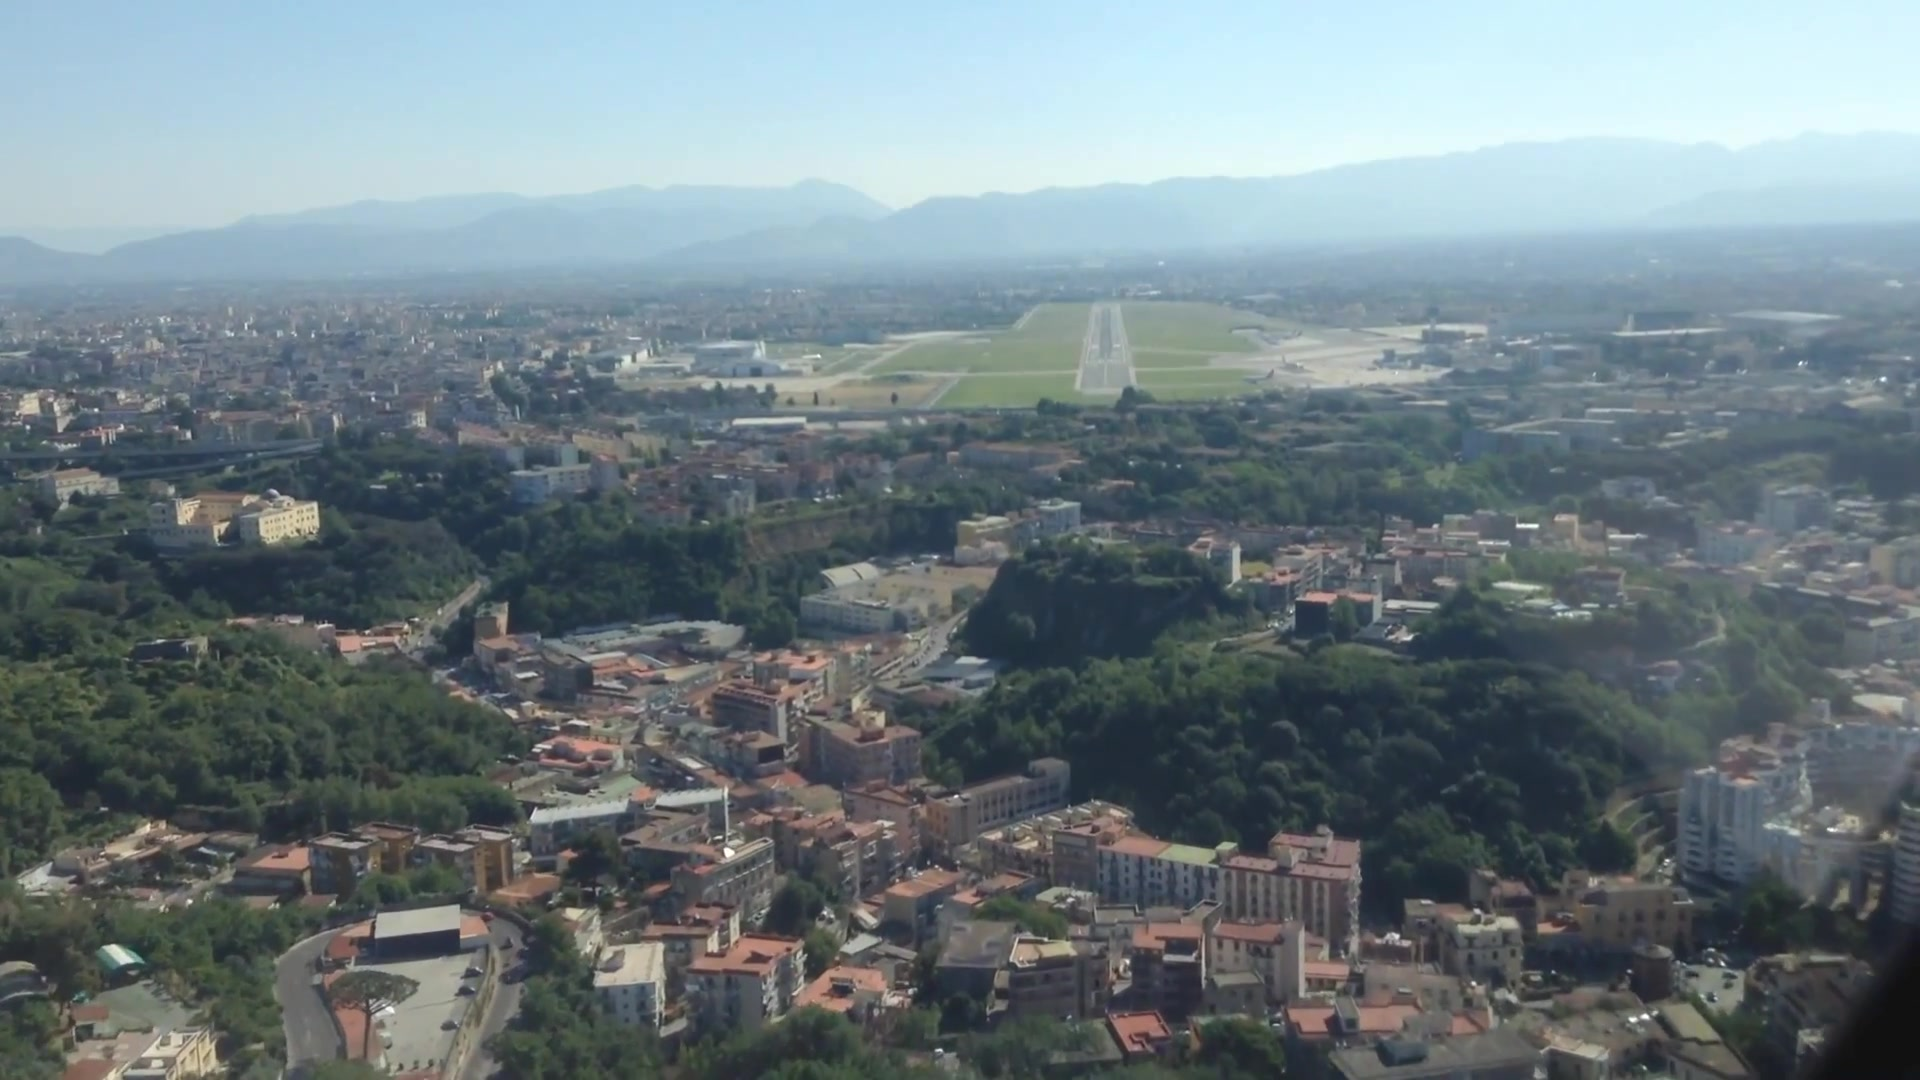runway: (1073, 301, 1137, 398)
